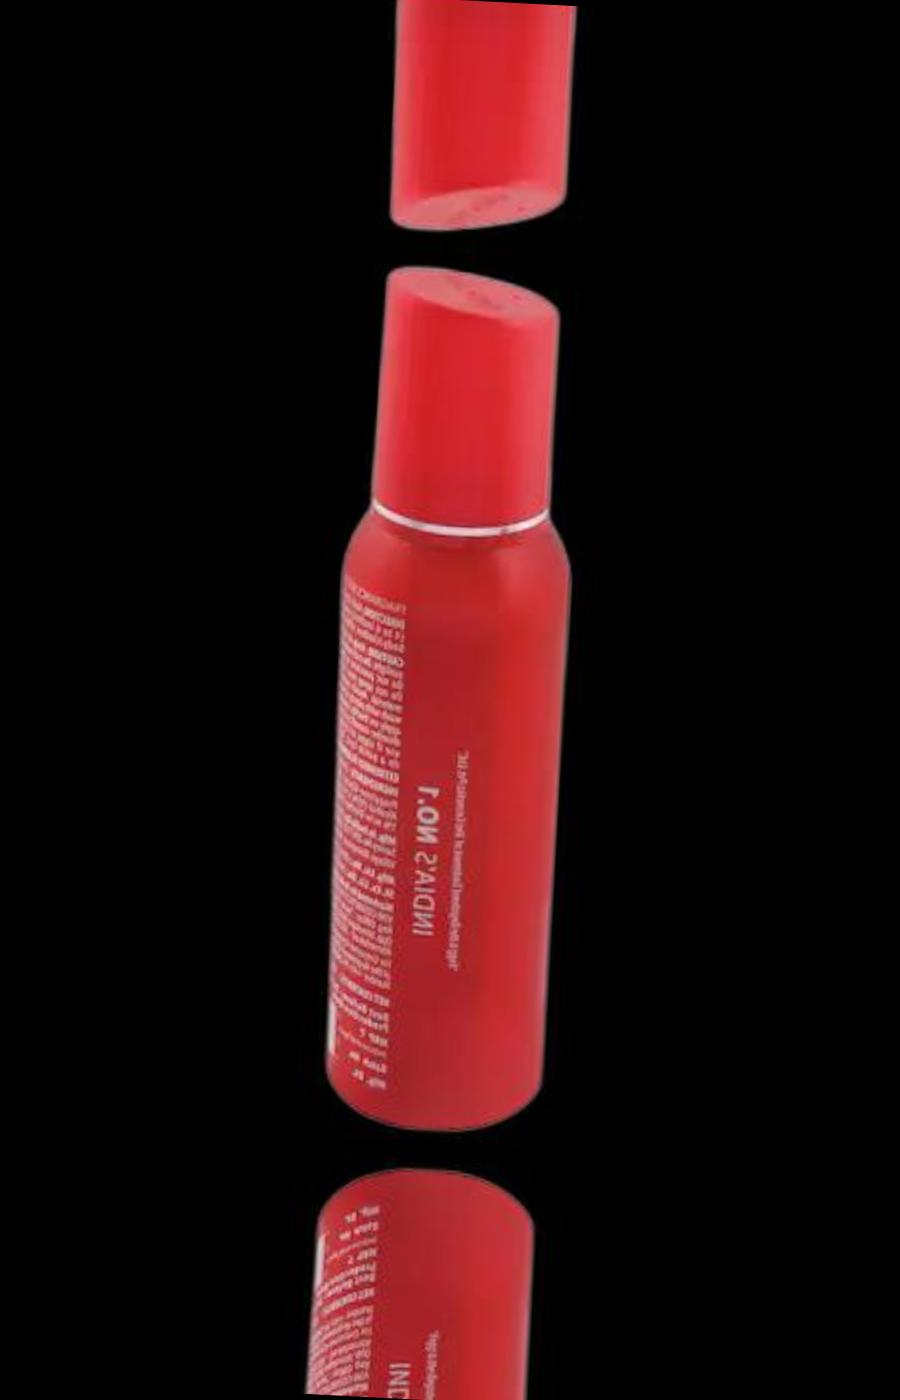Fogg Napoleon Fragrance Body Spray 150 ml: (307, 253, 607, 1144), (354, 0, 620, 248), (293, 1156, 559, 1400)
